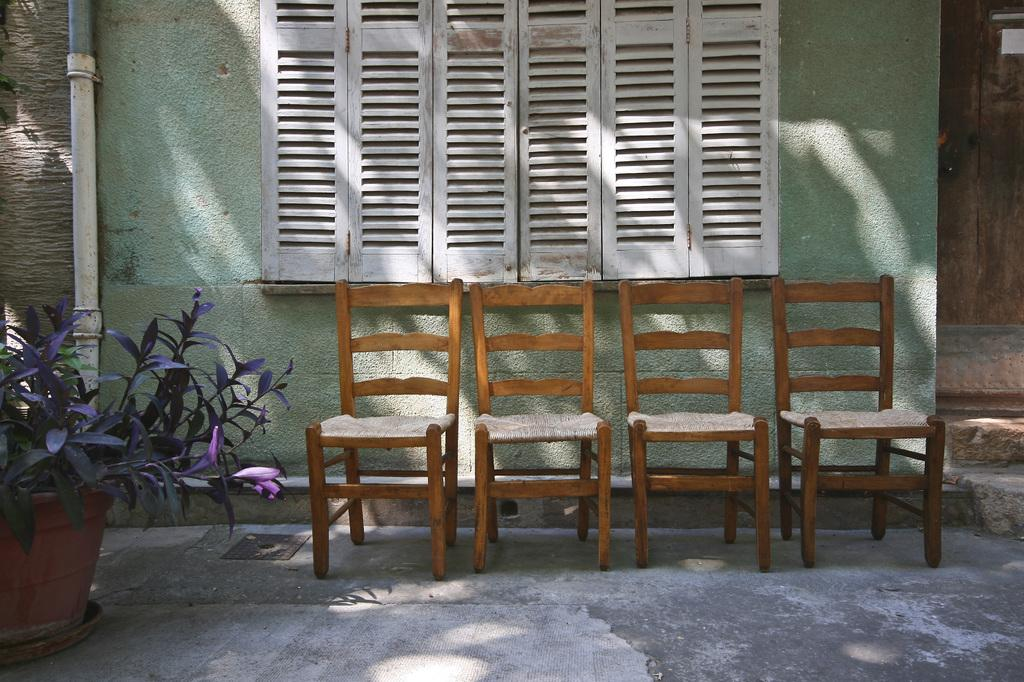Chair: (756, 266, 941, 576), (304, 273, 461, 583), (616, 274, 772, 573), (468, 276, 610, 573)
